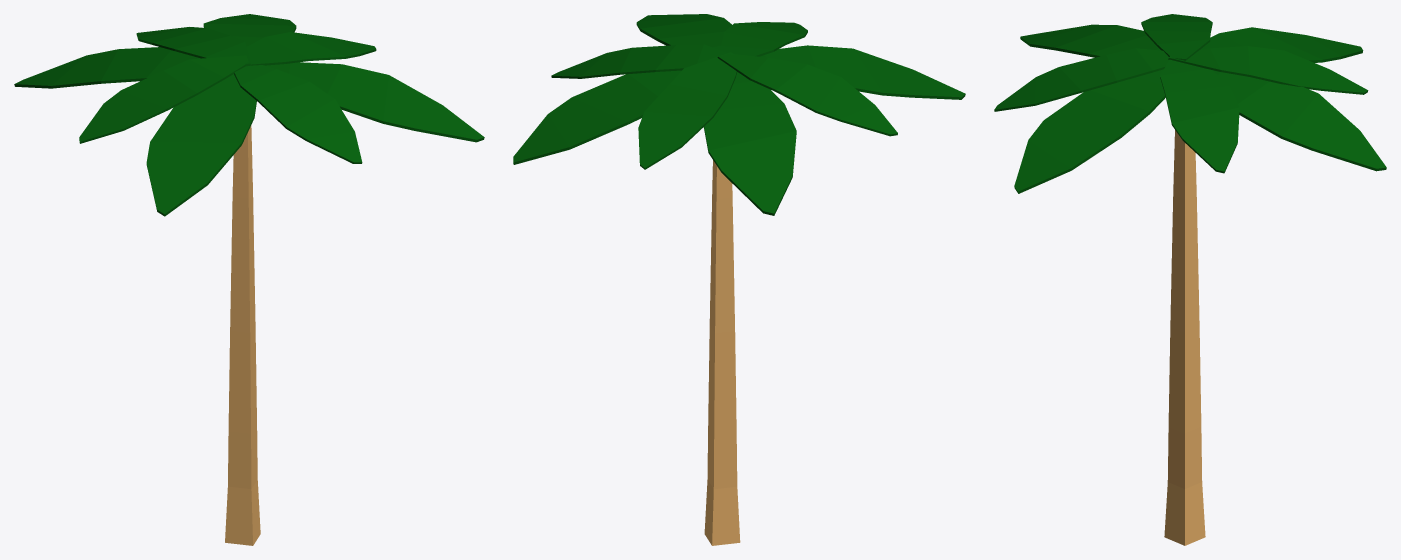
Rendered from CoconutTree1.fbx.
3 views of the same model, side by side, from view 1: azimuth 30°, elevation 25°; view 2: azimuth 150°, elevation 25°; view 3: azimuth 270°, elevation 25° (orthographic).
Visible parts, largest first — view 1: Circle.003; view 2: Circle.003; view 3: Circle.003.
Part boxes in pixels (x1,y1,x2,y2): Circle.003: (14, 14, 484, 545); Circle.003: (513, 14, 965, 545); Circle.003: (994, 14, 1386, 545).
Size of the model in its own units: 1638 by 2301 by 1705.
